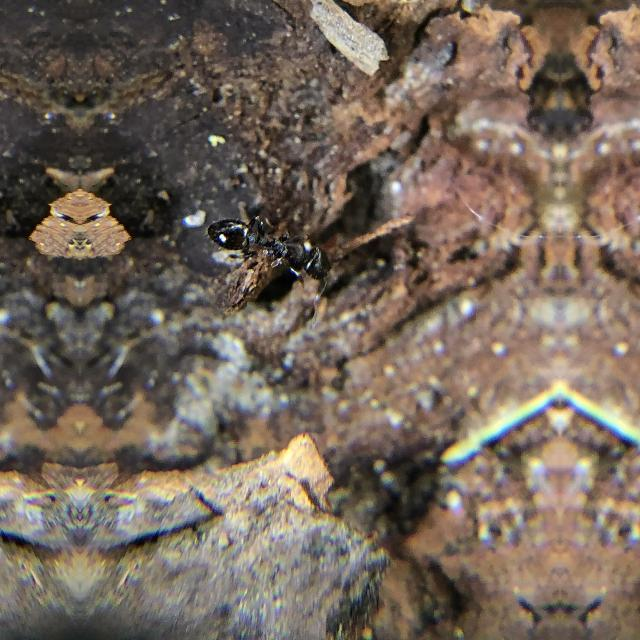Temnothorax: (185, 194, 337, 290)
